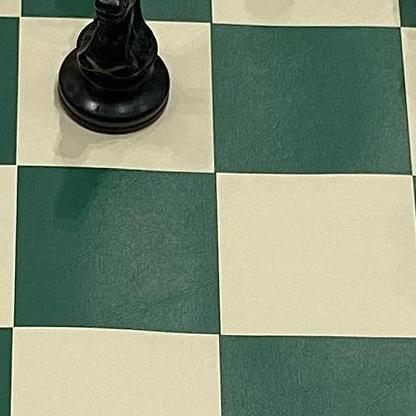black-knight: (32, 0, 186, 140)
